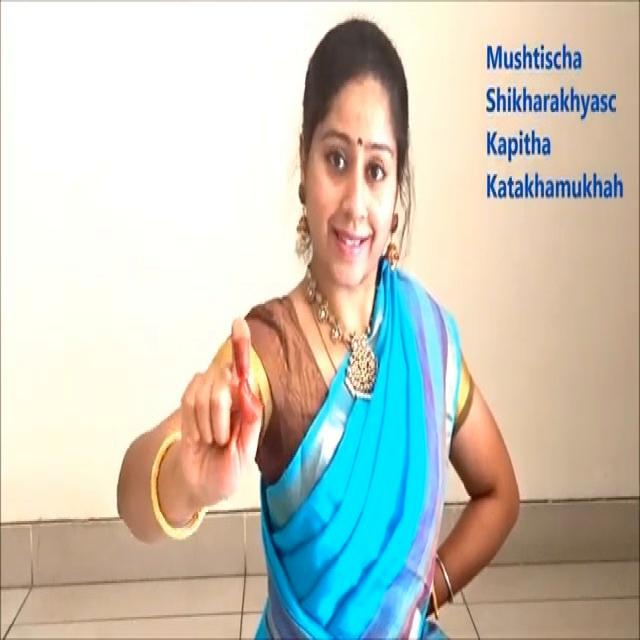Kapittha: (174, 311, 279, 526)
lady: (273, 8, 424, 290)
text: (484, 36, 626, 220)
